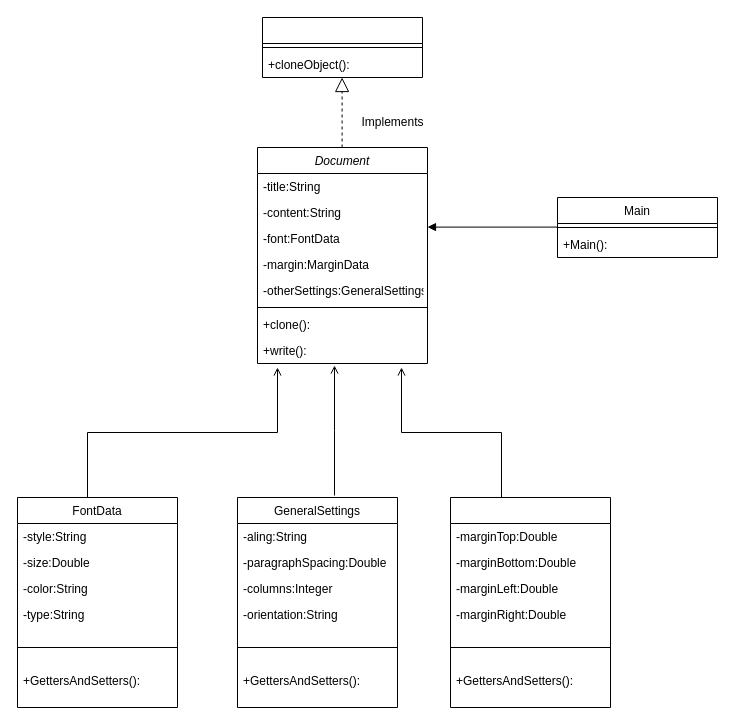
Image size: 735x725. Some labels were removed from this diagram. Here are the shapes that lost their labels. From the top down, the box of each, then its label:
(262, 16, 422, 78): IClonable
(450, 496, 610, 708): MarginData
